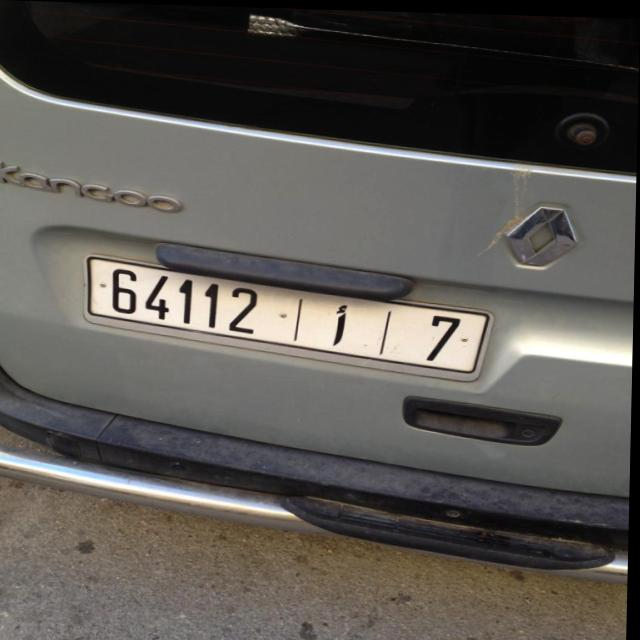License-Plate: (88, 256, 495, 377)
